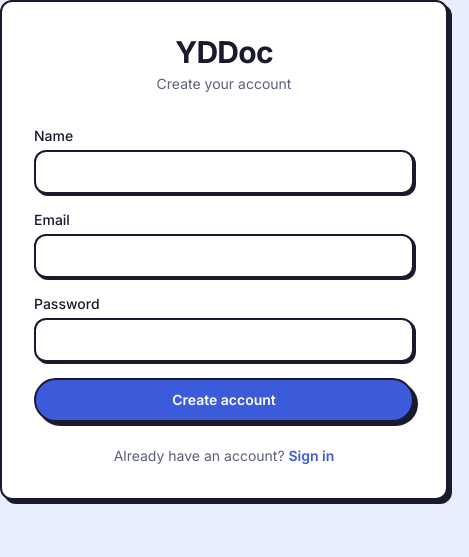
Test: SignupForm › displays error message on failed sign up
The image size is (469, 557).
Type "existing@example.com" into the field labelled "Email".
click(224, 256); type("existing@example.com")  # box x1=34 y1=234 x2=414 y2=278
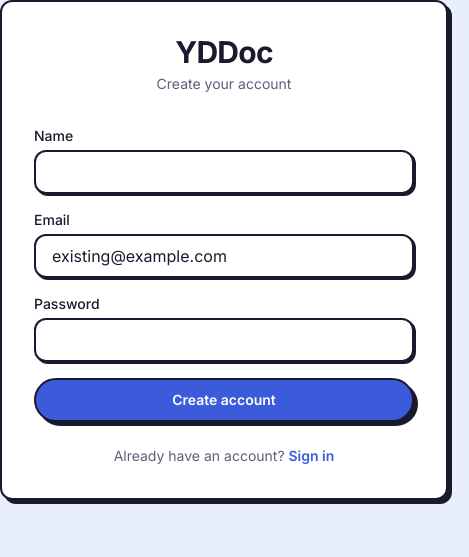
Type "password123" into the password field labelled "Password".
click(224, 340); type("password123")  # box x1=34 y1=318 x2=414 y2=362
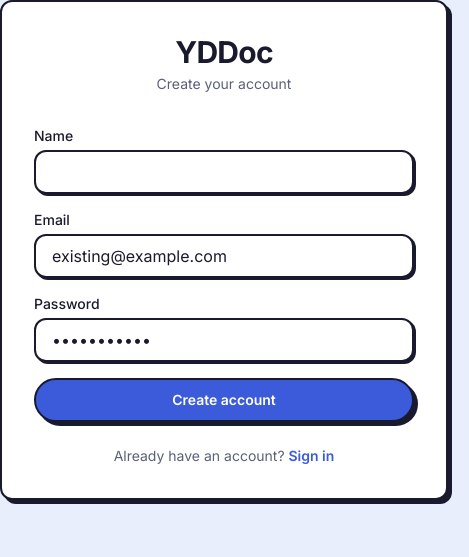
Submit the form "Name Email Password Create account", box x1=34 y1=126 x2=414 y2=422
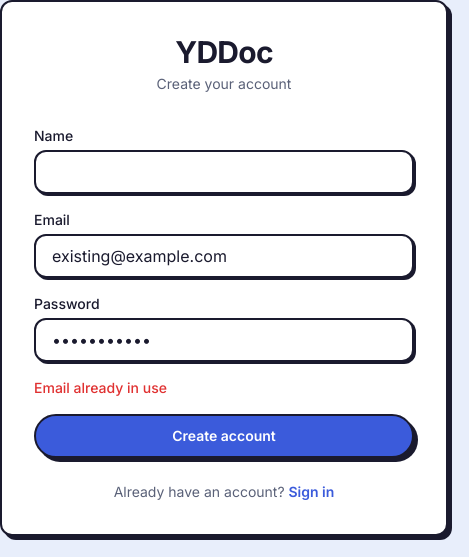
Check: the text "Email already in use" is shown, box x1=34 y1=379 x2=167 y2=396
